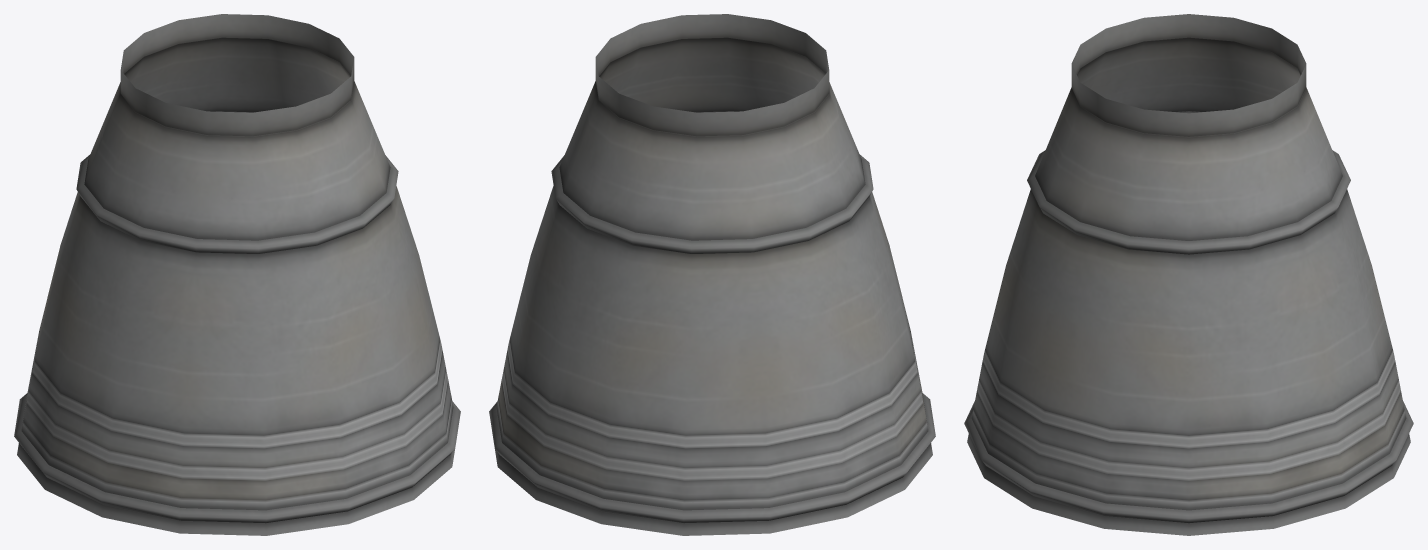
File: ALV_1_Engine_1_Nozzle.obj
3 renders of one model, left to right at view 1: azimuth 30°, elevation 25°; view 2: azimuth 150°, elevation 25°; view 3: azimuth 270°, elevation 25°, orthographic.
Visible parts, largest first — view 1: ALV_1_Engine_1_Nozzle; view 2: ALV_1_Engine_1_Nozzle; view 3: ALV_1_Engine_1_Nozzle.
Part boxes in pixels (x1=…): ALV_1_Engine_1_Nozzle: x1=14, y1=14, x2=460, y2=535; ALV_1_Engine_1_Nozzle: x1=489, y1=14, x2=935, y2=535; ALV_1_Engine_1_Nozzle: x1=964, y1=14, x2=1413, y2=535.
Bounding box in the file's own units: 0.8612 × 0.8 × 0.8612.
